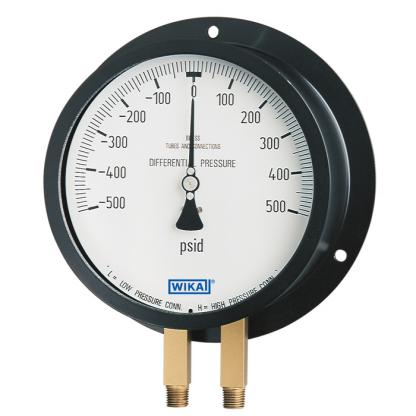needle: (188, 96, 195, 167)
